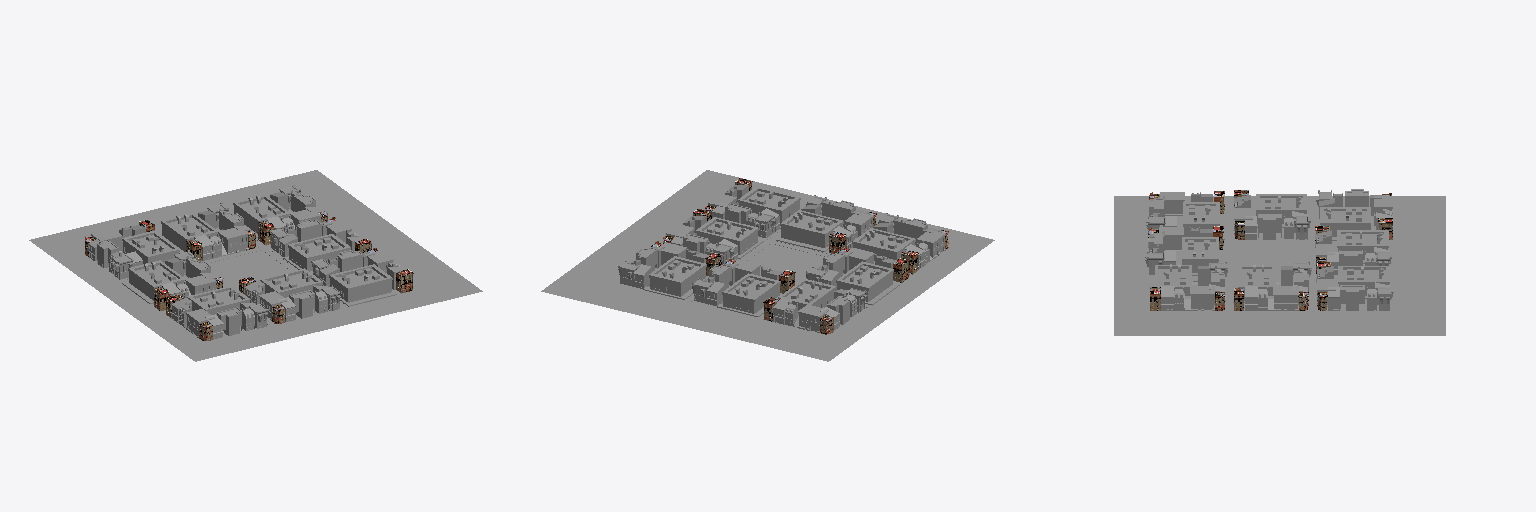
3 renders of one model, left to right at view 1: azimuth 30°, elevation 25°; view 2: azimuth 150°, elevation 25°; view 3: azimuth 270°, elevation 25°, orthographic.
Parts seen in each view (by area): view 1: Plane, (null).122_(null).150, (null).112_(null).140, (null).040_(null).098, (null).109_(null).137, (null).145_(null).196, (null).133_(null).161, (null).057_(null).115, (null).093, (null).105_(null).133; view 2: Plane, (null).093, (null).133_(null).161, (null).109_(null).137, (null).040_(null).098, (null).112_(null).140, (null).122_(null).150, (null).057_(null).115, (null).145_(null).196, (null).141_(null).192; view 3: Plane, (null).145_(null).196, (null).093, (null).057_(null).115, (null).040_(null).098, (null).109_(null).137, (null).133_(null).161, (null).112_(null).140, (null).122_(null).150, (null).096_(null).124, (null).118_(null).146, (null).132_(null).160 (+1 smaller).
Part boxes in pixels (x1,y1,x2,y2): Plane: (29, 170, 482, 361); (null).122_(null).150: (329, 264, 396, 306); (null).112_(null).140: (283, 234, 350, 273); (null).040_(null).098: (122, 260, 184, 303); (null).109_(null).137: (160, 213, 218, 253); (null).145_(null).196: (119, 231, 179, 263); (null).133_(null).161: (233, 194, 290, 237); (null).057_(null).115: (187, 286, 249, 314); (null).093: (260, 268, 322, 297); (null).105_(null).133: (218, 226, 248, 255); Plane: (541, 170, 994, 361); (null).093: (776, 210, 843, 251); (null).133_(null).161: (643, 256, 707, 299); (null).109_(null).137: (717, 273, 780, 316); (null).040_(null).098: (835, 261, 899, 305); (null).112_(null).140: (696, 217, 763, 258); (null).122_(null).150: (738, 186, 800, 228); (null).057_(null).115: (852, 228, 915, 263); (null).145_(null).196: (778, 279, 835, 310); (null).141_(null).192: (793, 304, 828, 332); Plane: (1114, 196, 1445, 335); (null).145_(null).196: (1318, 207, 1373, 240); (null).093: (1176, 237, 1223, 275); (null).057_(null).115: (1177, 202, 1224, 239); (null).040_(null).098: (1254, 194, 1309, 227); (null).109_(null).137: (1335, 230, 1390, 263); (null).133_(null).161: (1336, 266, 1391, 298); (null).112_(null).140: (1233, 264, 1280, 302); (null).122_(null).150: (1150, 264, 1197, 292); (null).096_(null).124: (1268, 286, 1298, 310); (null).118_(null).146: (1184, 286, 1214, 310); (null).132_(null).160: (1340, 285, 1364, 310).
Bounding box in the file's own units: 438 × 28.58 × 438.
Materials: 11 (2 with a texture image).